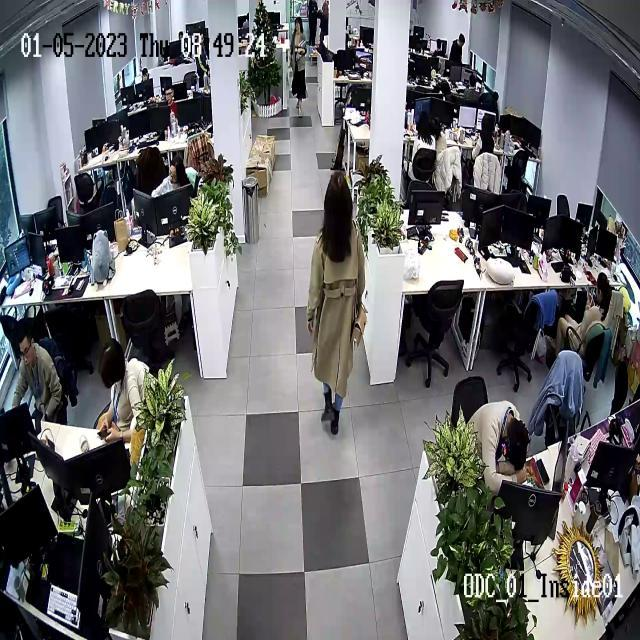person: (306, 171, 368, 435), (94, 339, 150, 445), (9, 325, 66, 425), (471, 400, 533, 481), (557, 271, 614, 357), (473, 113, 502, 195), (432, 131, 463, 205), (290, 16, 308, 116), (156, 159, 189, 202), (161, 80, 183, 136), (448, 32, 466, 79)
